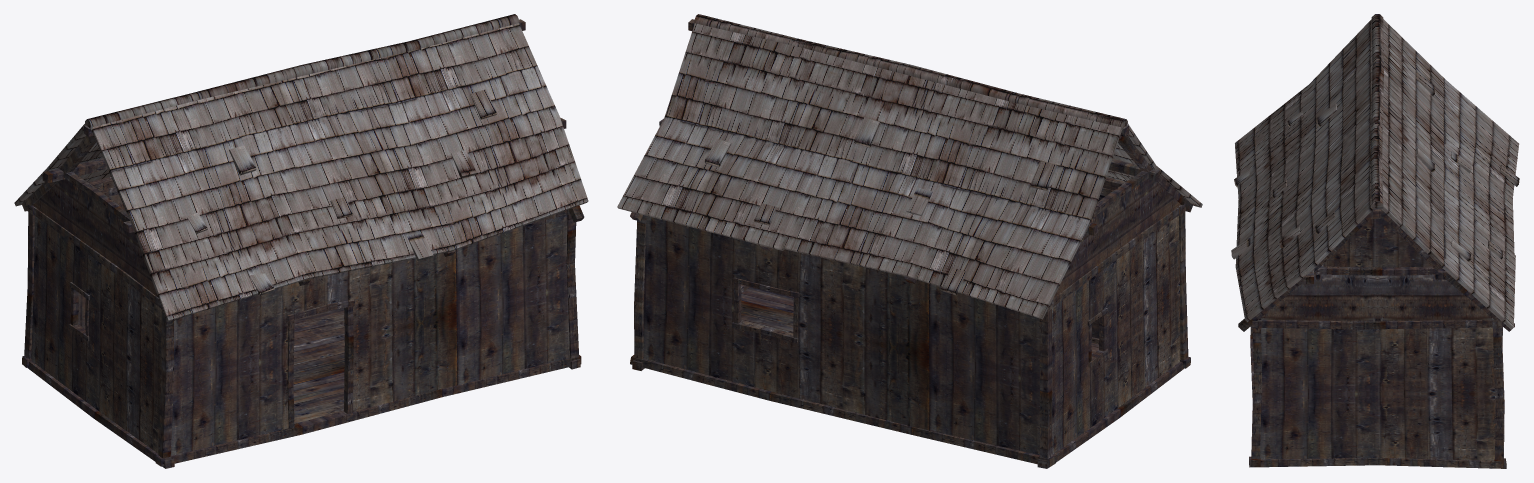
The picture shows the model from 3 angles, left to right: view 1: azimuth 30°, elevation 25°; view 2: azimuth 150°, elevation 25°; view 3: azimuth 270°, elevation 25°; orthographic projection. The views are drawn at different scales.
Visible parts, largest first — view 1: Hut01_0; view 2: Hut01_0; view 3: Hut01_0.
Part boxes in pixels (x1,y1,x2,y2): Hut01_0: [14, 14, 588, 468]; Hut01_0: [617, 14, 1202, 468]; Hut01_0: [1231, 14, 1519, 468].
Size of what is drawn, in the model's own units: 496 by 321 by 308.
Materials: 2 (2 with a texture image).
